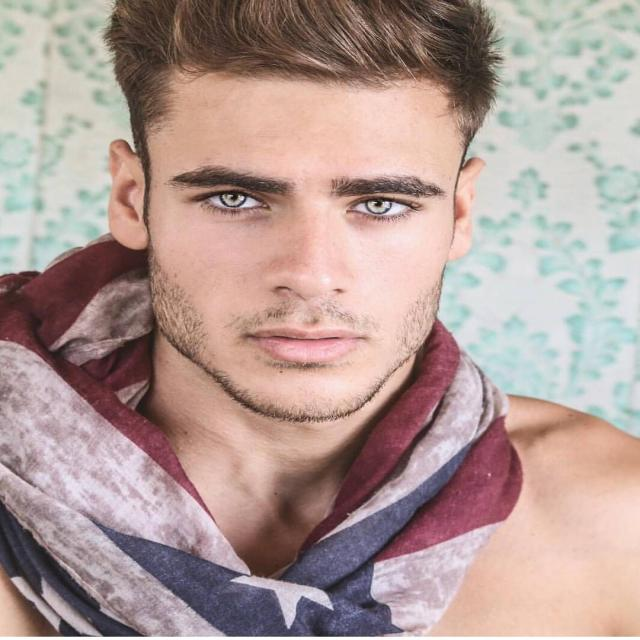front: (172, 131, 440, 389)
